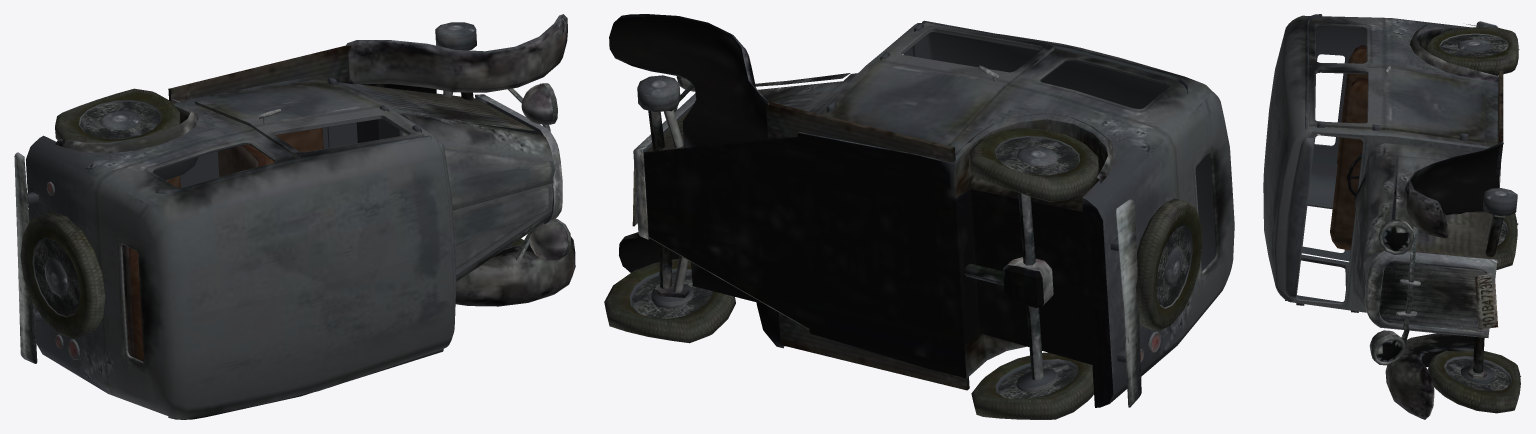
Rendered from civiliancar_damaged_blue.glb.
3 views of the same model, side by side, from view 1: azimuth 30°, elevation 25°; view 2: azimuth 150°, elevation 25°; view 3: azimuth 270°, elevation 25° (orthographic). The views are drawn at different scales.
Size of the model in its own units: 136 by 64.96 by 67.07.
Materials: 1 (1 with a texture image).
